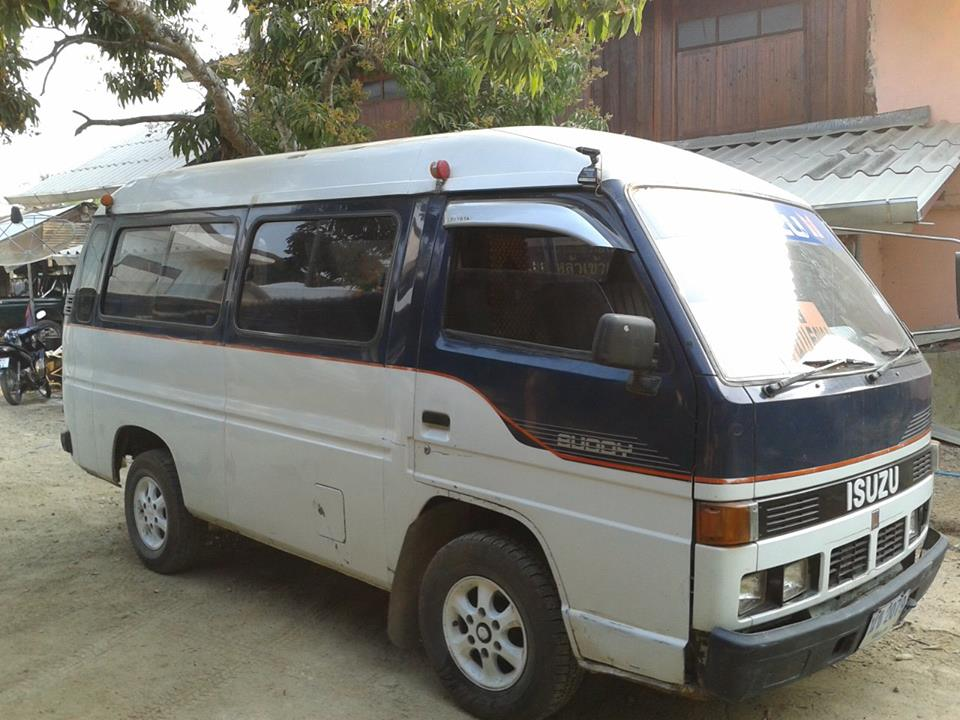van: (56, 123, 948, 720)
